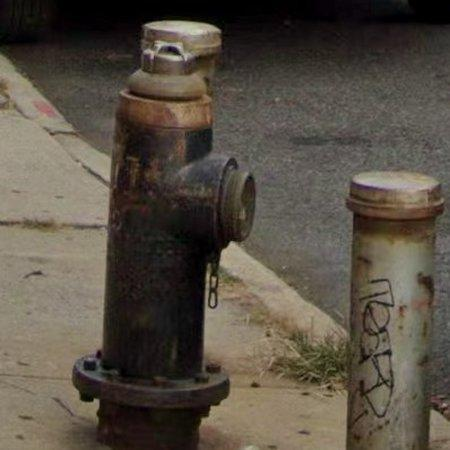a fire hydrant: (72, 21, 256, 428)
